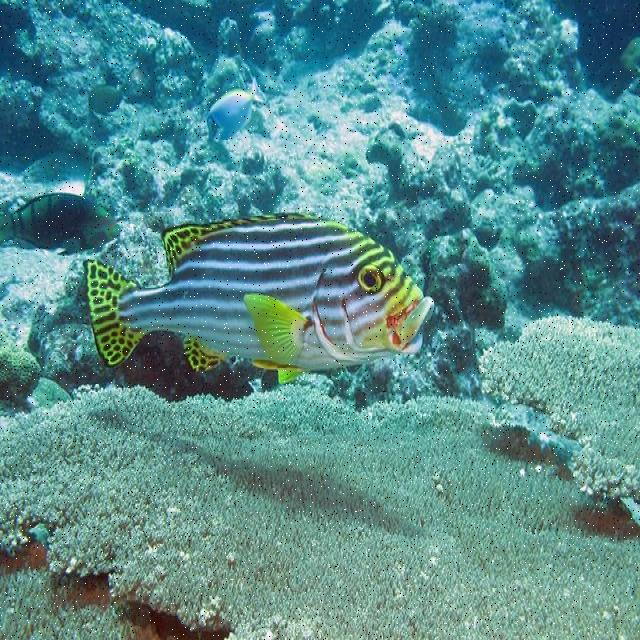fish: (85, 213, 435, 380), (0, 193, 121, 256), (206, 76, 266, 145)
reefs: (1, 313, 638, 638)
